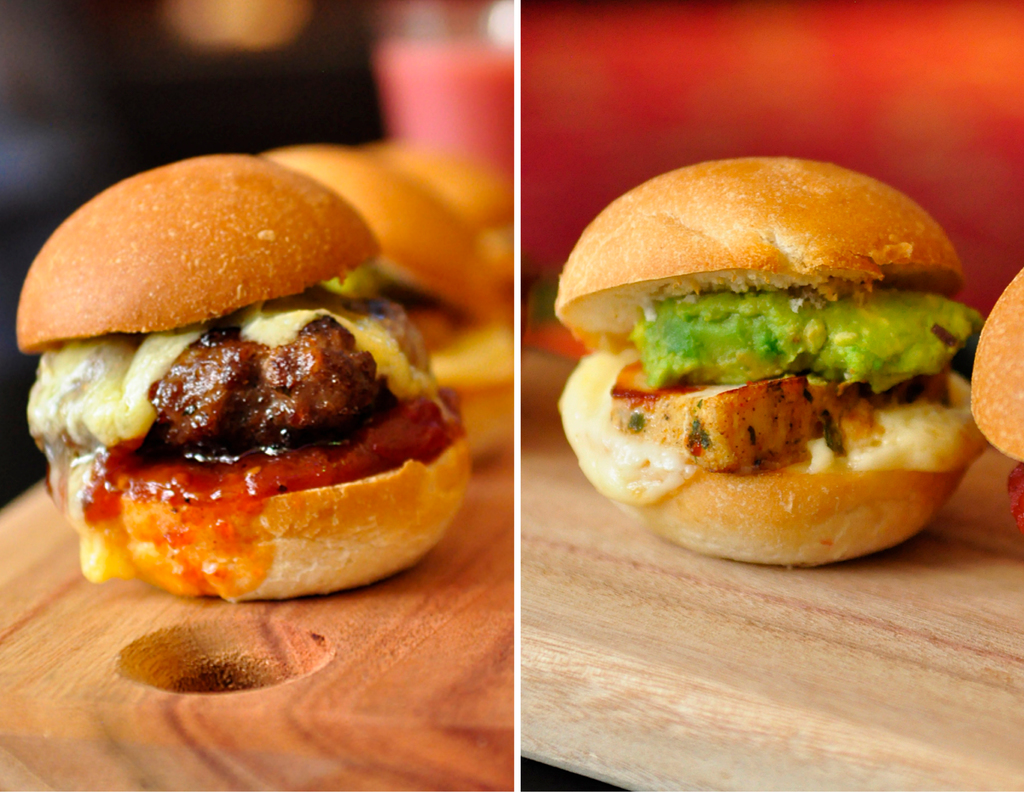Hamburger: (17, 153, 472, 600), (552, 151, 988, 569), (256, 145, 505, 357)
